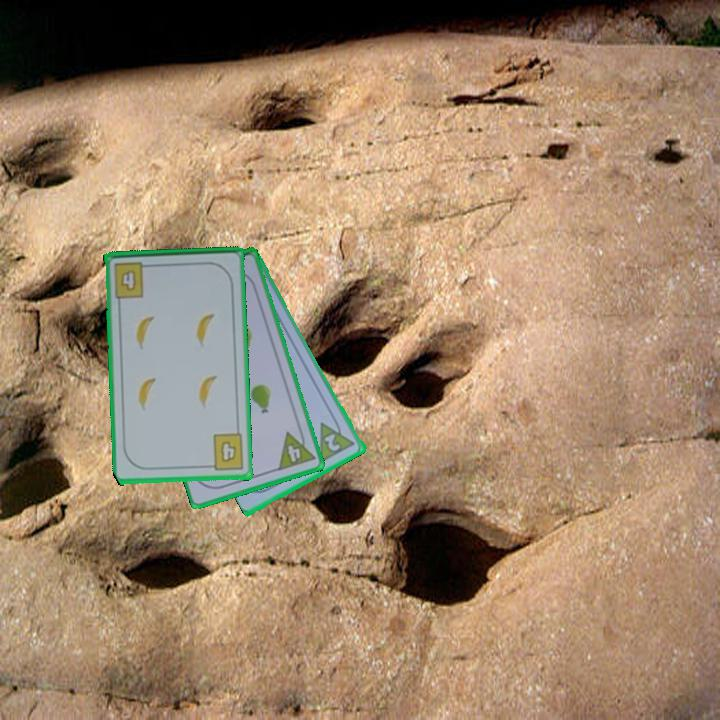2p: (321, 430, 344, 454)
4b: (203, 431, 247, 474), (111, 258, 154, 301)
4p: (275, 425, 318, 474)
